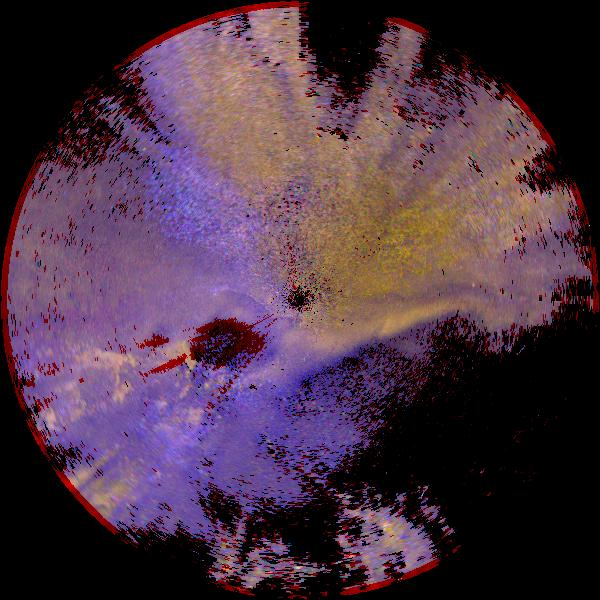roost: (129, 335, 207, 413)
